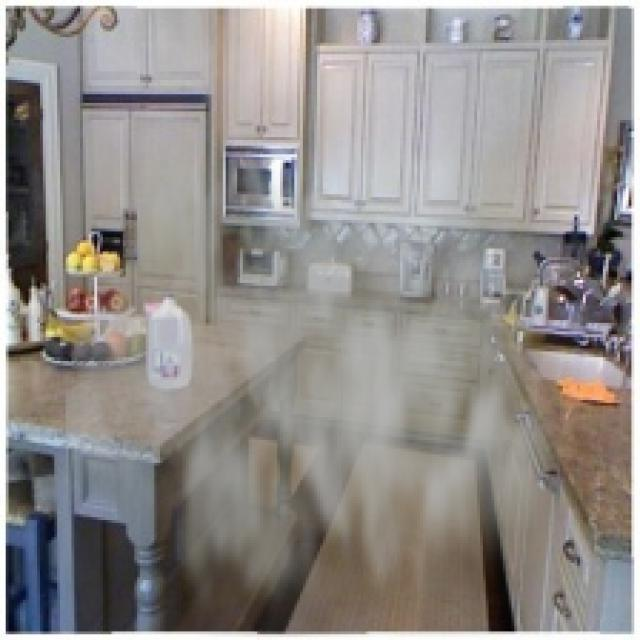Smoke: (66, 92, 588, 638)
